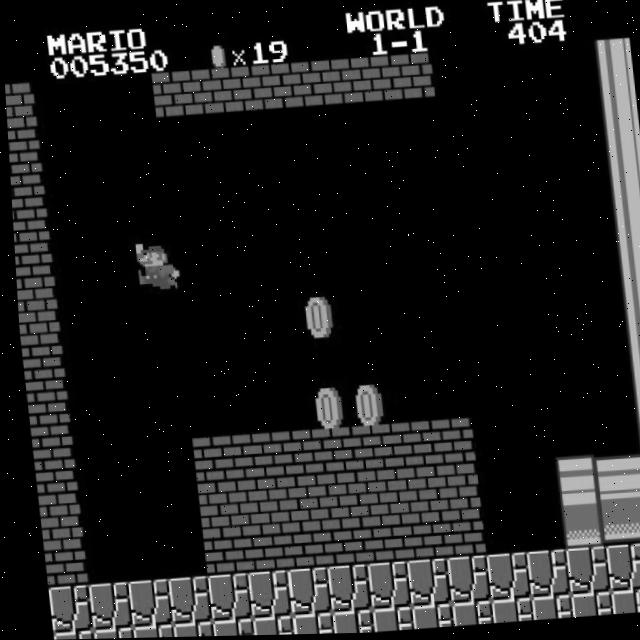1- brick_block: (270, 477, 316, 526), (310, 474, 356, 523), (389, 55, 435, 104), (226, 434, 272, 482), (266, 431, 312, 479), (425, 420, 471, 468), (191, 482, 236, 531), (195, 528, 240, 577), (190, 69, 235, 118), (235, 525, 280, 574), (230, 66, 275, 115), (275, 522, 320, 571), (315, 519, 360, 568), (310, 61, 355, 110), (350, 471, 395, 520), (355, 516, 400, 565), (390, 468, 435, 517), (395, 514, 440, 563), (435, 511, 480, 560), (150, 72, 195, 120), (187, 437, 232, 485), (231, 480, 276, 528), (270, 64, 315, 112), (306, 429, 351, 477), (346, 426, 391, 474), (350, 58, 395, 106), (386, 423, 431, 471), (430, 466, 475, 514), (27, 448, 72, 495), (14, 310, 58, 358), (19, 356, 63, 404), (23, 402, 67, 450), (37, 539, 81, 587), (32, 494, 76, 541), (12, 265, 54, 314), (10, 219, 48, 268), (8, 174, 44, 222), (6, 128, 40, 176), (4, 82, 35, 131)
11- little_mario: (129, 240, 177, 291)
14- pipe: (589, 454, 634, 503), (594, 500, 639, 549), (588, 41, 633, 89), (593, 86, 638, 134), (597, 132, 640, 180), (602, 177, 640, 226), (606, 223, 640, 272), (610, 269, 640, 317), (615, 314, 640, 363), (619, 360, 640, 408), (623, 406, 640, 453), (629, 452, 640, 499), (633, 497, 640, 545)
15- pipe_head: (550, 457, 595, 506), (554, 502, 599, 551)
17- undestructible_block: (399, 560, 445, 608), (80, 582, 125, 631), (120, 579, 165, 628), (160, 576, 205, 625), (240, 571, 285, 620), (280, 568, 325, 617), (320, 565, 365, 614), (360, 562, 405, 611), (439, 557, 484, 606), (479, 554, 524, 603), (519, 551, 564, 600), (559, 548, 604, 597), (41, 585, 86, 633), (200, 574, 245, 622), (598, 546, 640, 595), (483, 600, 527, 626), (364, 608, 407, 634), (404, 605, 447, 631), (563, 594, 606, 620), (443, 603, 487, 628), (324, 610, 367, 635), (523, 597, 566, 622), (284, 613, 327, 636), (603, 591, 640, 617), (244, 617, 287, 636), (204, 619, 247, 637), (164, 622, 207, 638), (124, 625, 167, 638), (84, 627, 127, 639), (45, 630, 87, 640), (638, 543, 640, 591)
2- coin: (292, 291, 338, 340), (302, 383, 347, 432), (342, 380, 387, 429)
